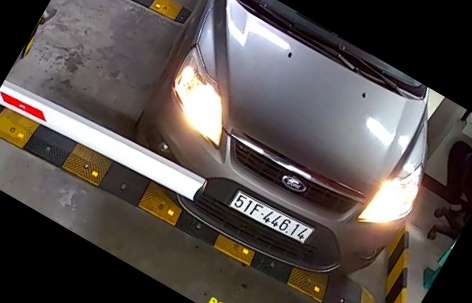plate: (214, 189, 313, 248)
